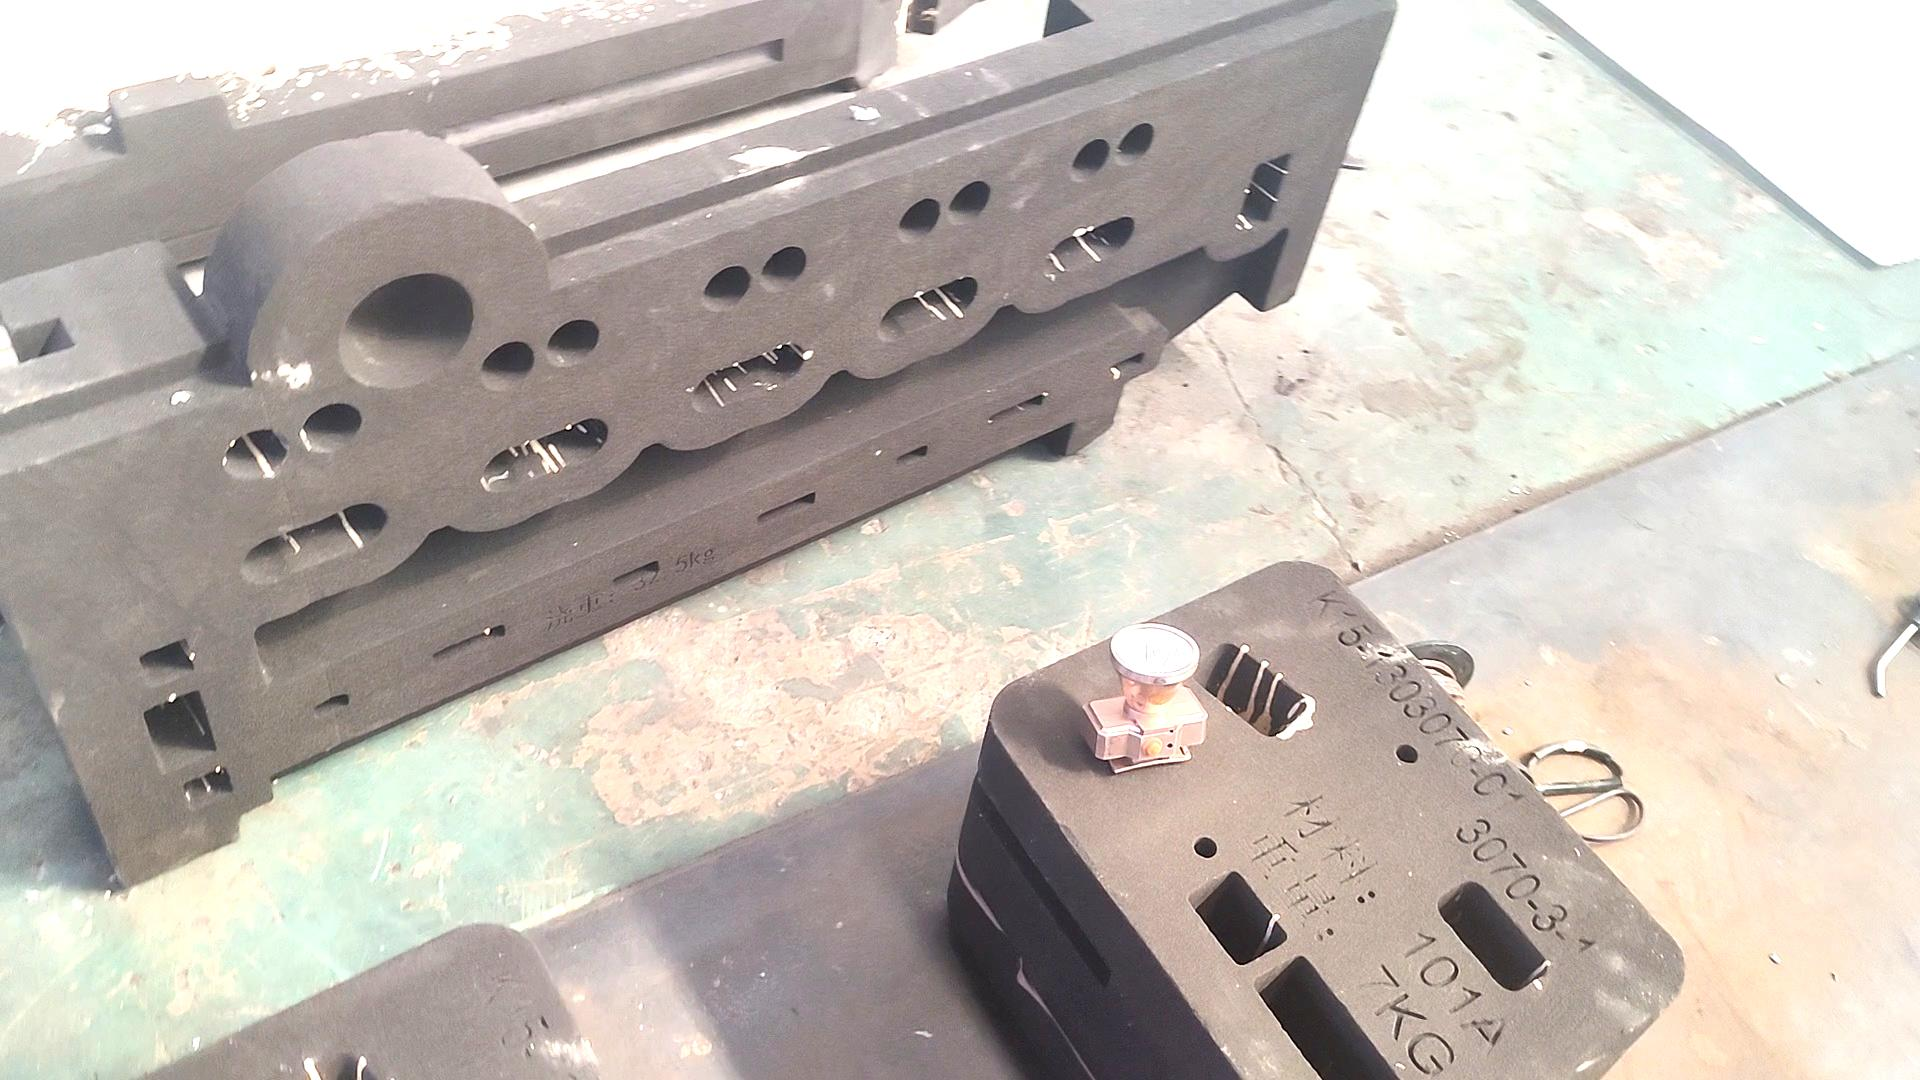pouring hole: (336, 270, 475, 393)
